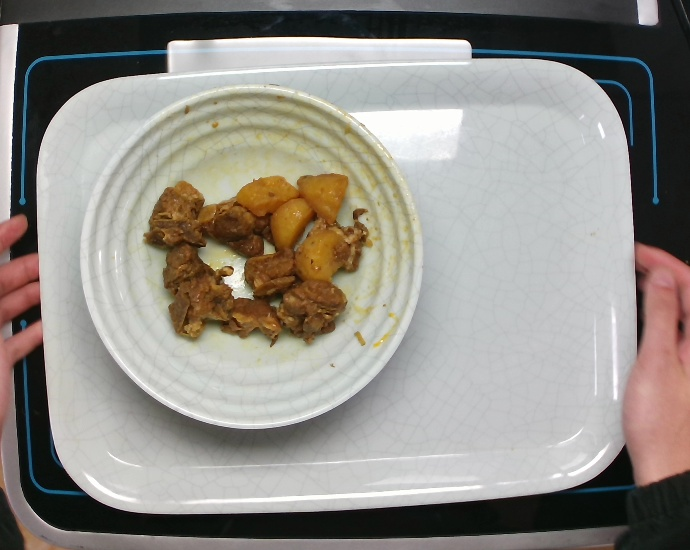JYsf-Da_Tang_Wan: (77, 82, 426, 432)
